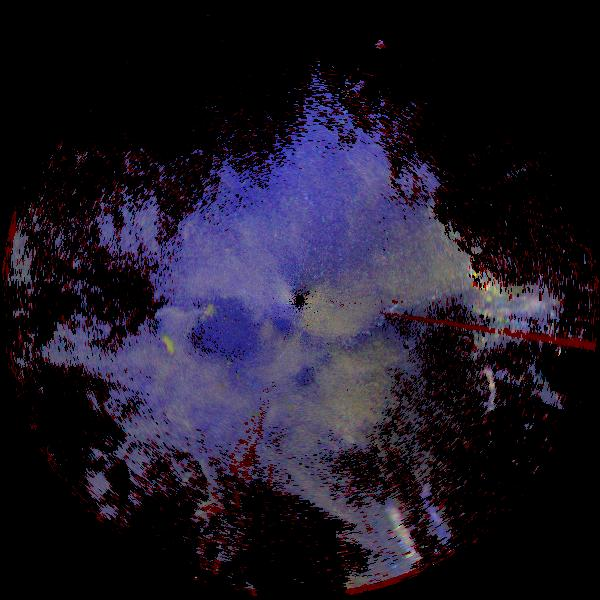roost: (146, 323, 188, 365)
